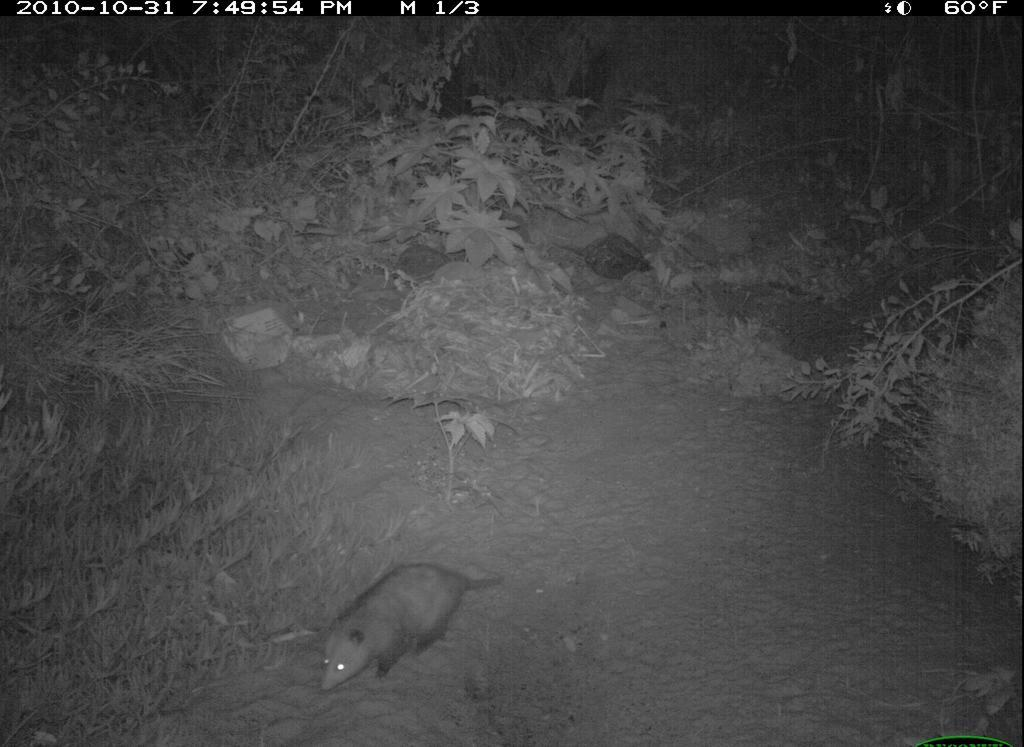opossum: (308, 559, 513, 701)
